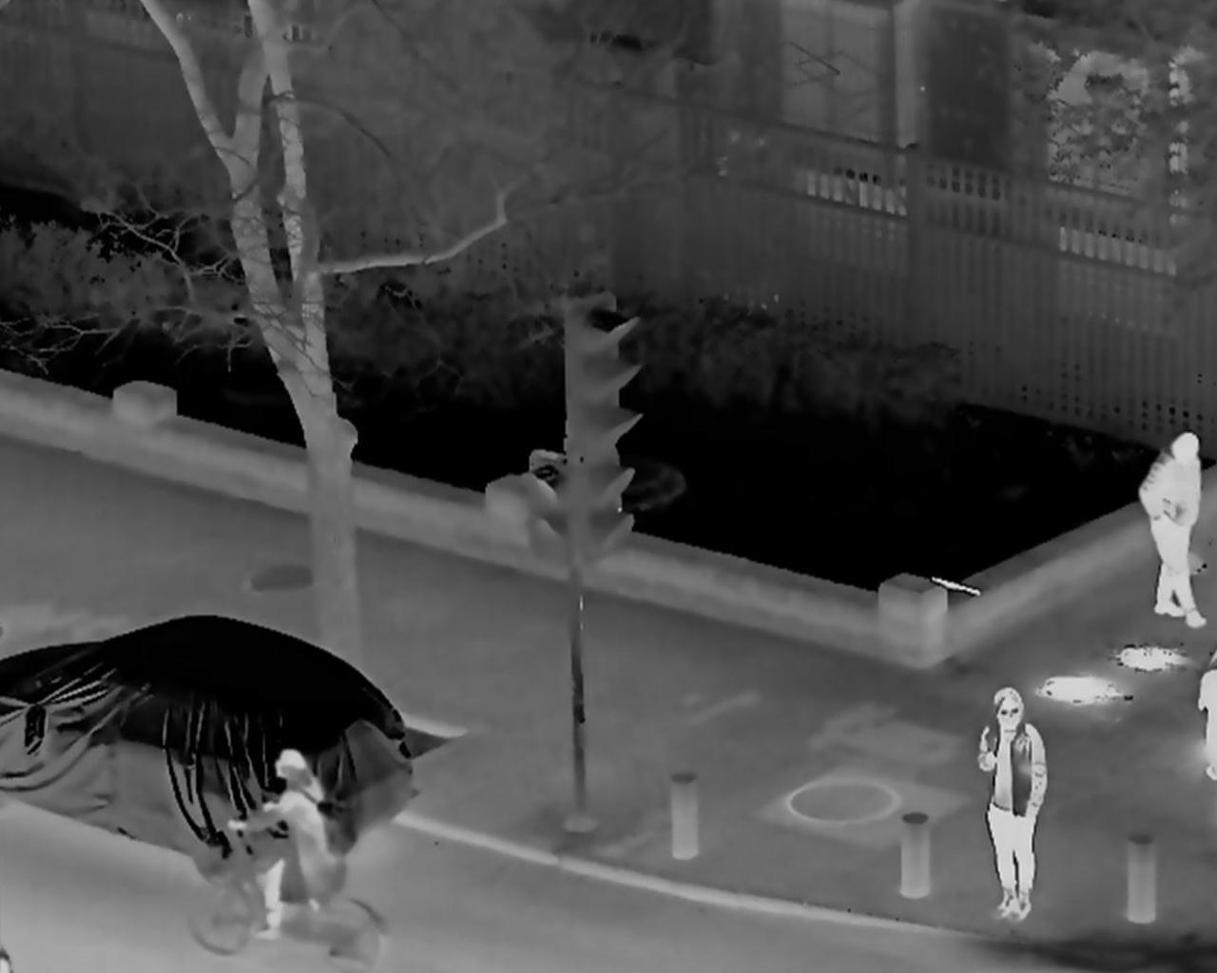person: (233, 746, 349, 942), (975, 690, 1044, 921), (1136, 429, 1207, 637)
